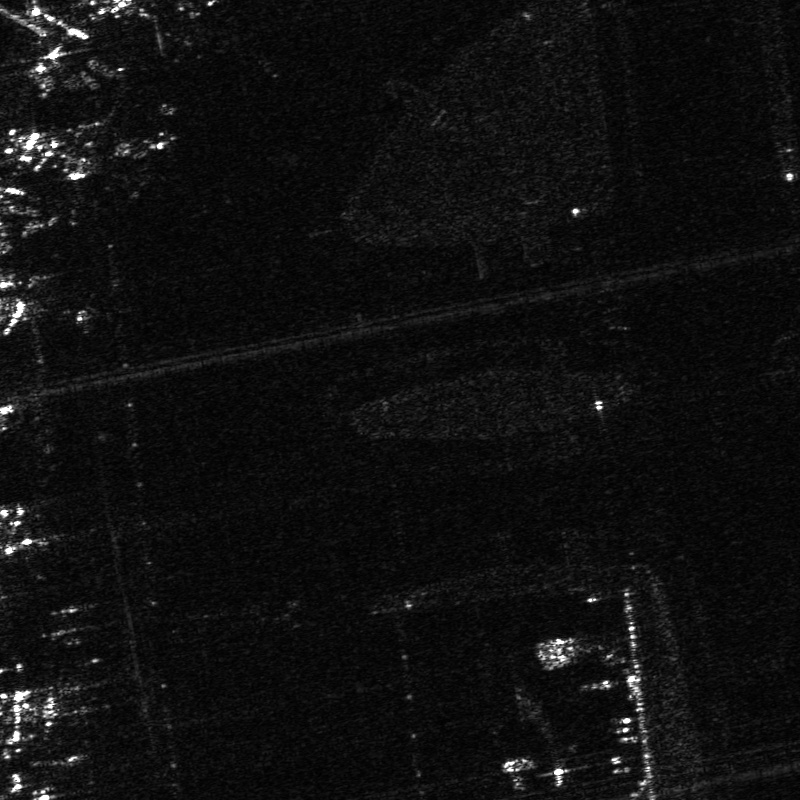Boeing787: (136, 1, 222, 69)
other: (18, 270, 94, 346)
